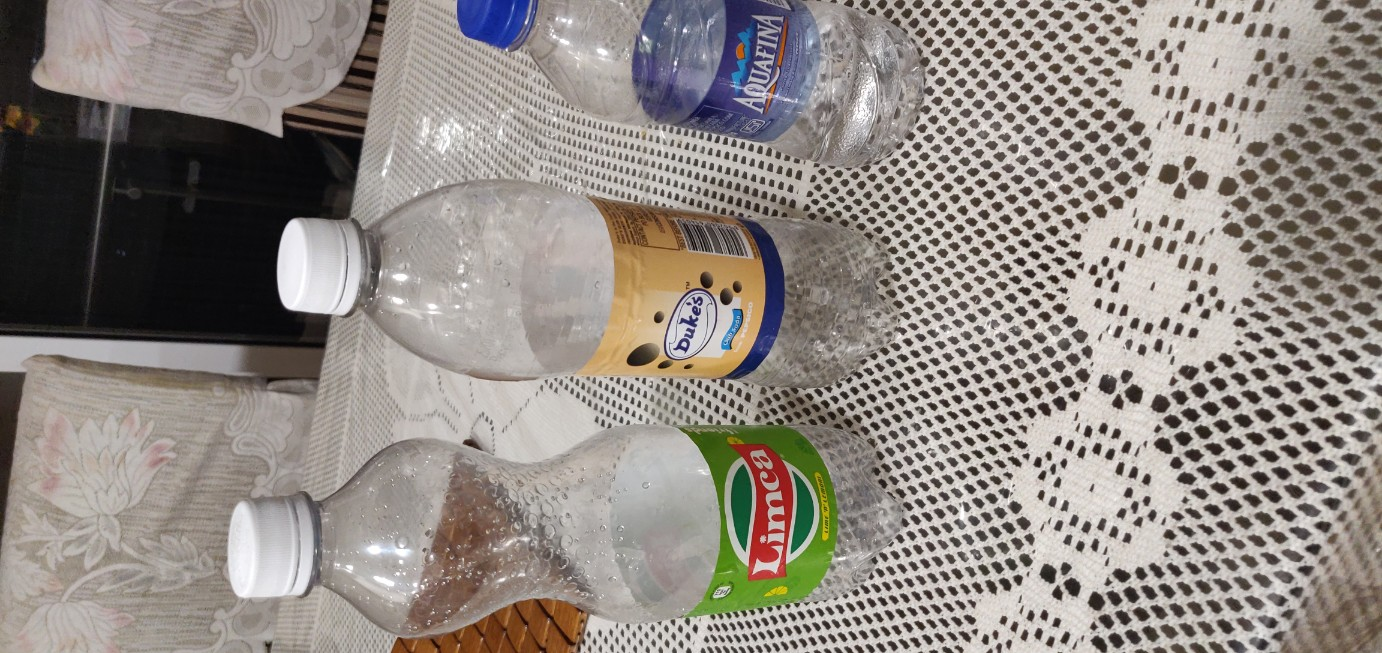Electronics: (188, 410, 942, 648), (227, 169, 929, 404), (431, 1, 941, 174)
